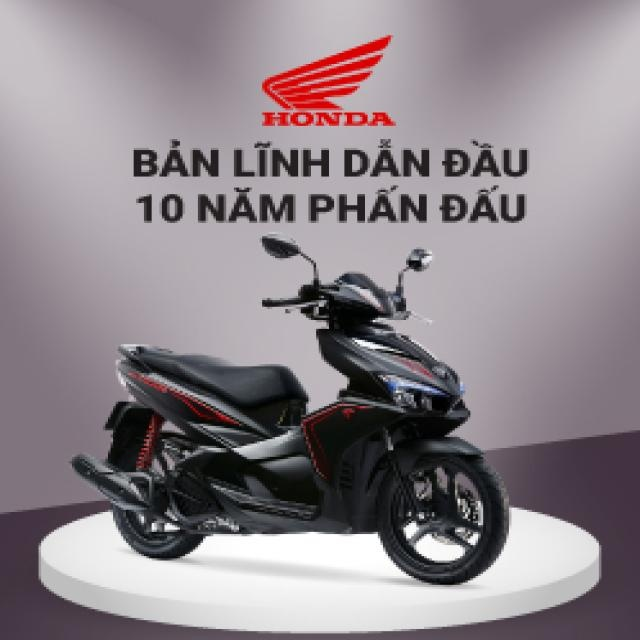Motorcycle: (63, 227, 511, 589)
